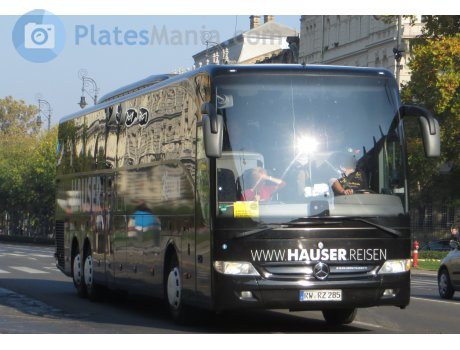License Plates: (298, 283, 341, 299)
